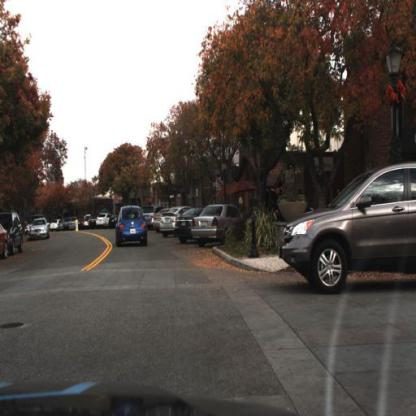car: (278, 160, 414, 295), (193, 203, 246, 250), (116, 201, 151, 251), (160, 201, 189, 238), (1, 212, 25, 256), (177, 205, 203, 234), (30, 218, 51, 241), (1, 224, 9, 262), (97, 212, 110, 229), (51, 219, 62, 232)
pedestrian: (238, 193, 247, 227)
